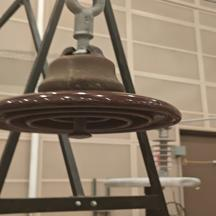insulator: (0, 40, 188, 151)
